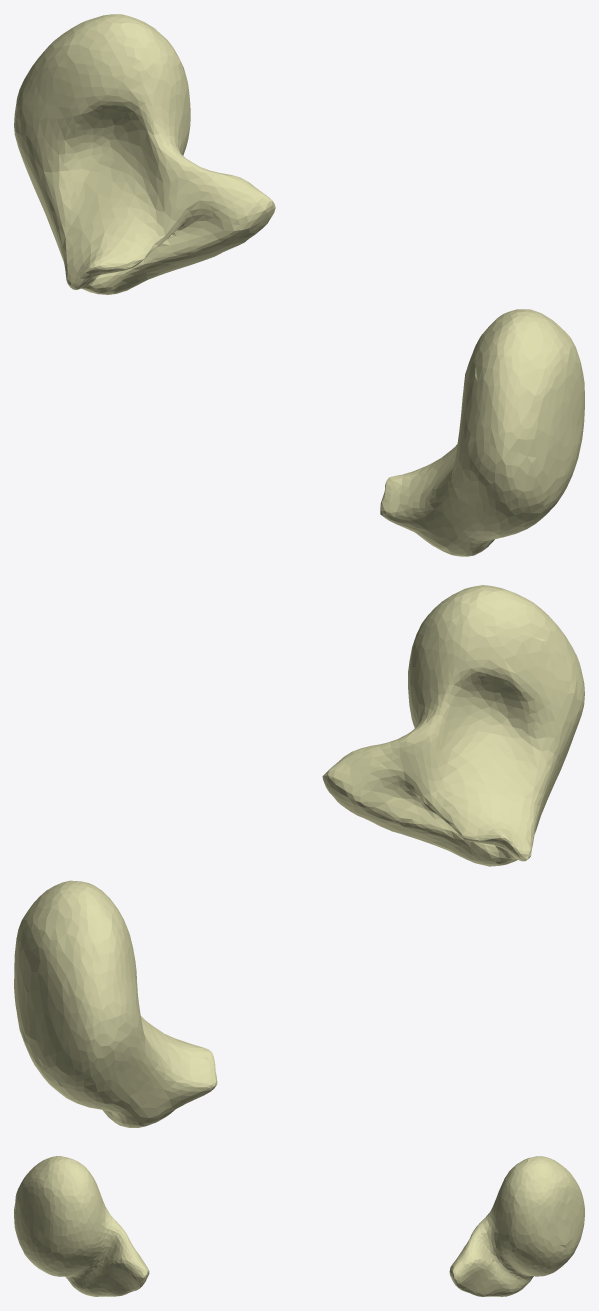
3 views of the same model, one above another, from view 1: azimuth 30°, elevation 25°; view 2: azimuth 150°, elevation 25°; view 3: azimuth 270°, elevation 25° (orthographic). The views are drawn at different scales.
Parts seen in each view (by area): view 1: 1041.obj; view 2: 1041.obj; view 3: 1041.obj.
Part boxes in pixels (x1,y1,x2,y2): 1041.obj: (14, 14, 584, 556); 1041.obj: (14, 585, 584, 1127); 1041.obj: (14, 1156, 584, 1296).
Bounding box in the file's own units: 2000 × 2572 × 9258.
